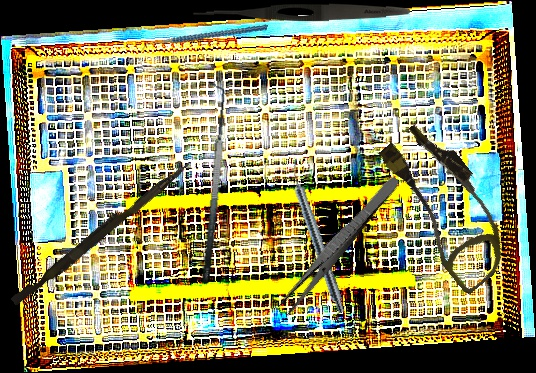Cannula: (362, 115, 531, 296)
Chopper: (140, 2, 268, 76)
Dressing Forceps: (274, 171, 403, 318), (189, 2, 411, 24)
Handpiece: (283, 158, 351, 315)
Pusher: (10, 154, 192, 311)
Spatula Surgical: (184, 82, 236, 285)
